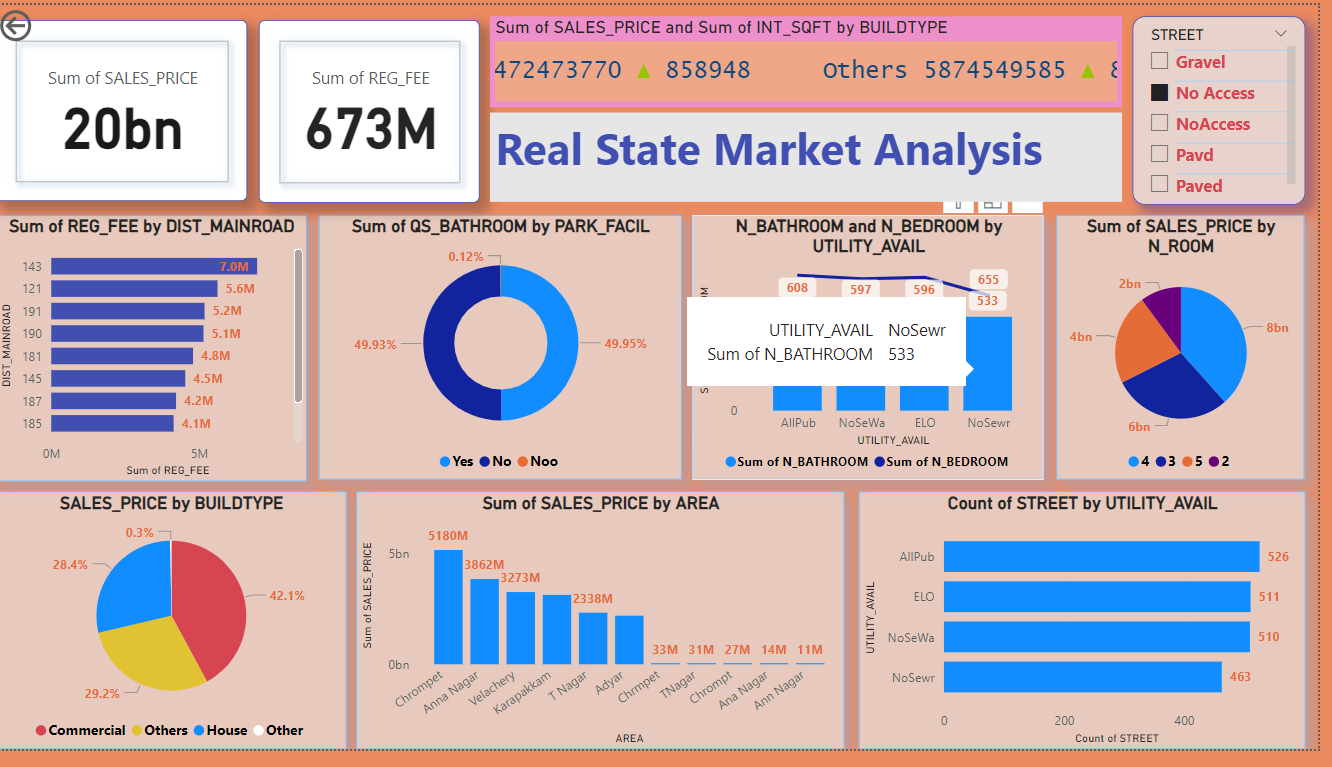

The dashboard page shown, as its layout file describes it:
{"tool":"powerbi","page":{"name":"Page 1","canvas":[1280,720],"ordinal":0},"visuals":[{"type":"pieChart","title":"SALES_PRICE by BUILDTYPE","fields":{"Y":["Sum(Chennai houseing sale.SALES_PRICE)"],"Category":["Chennai houseing sale.BUILDTYPE"]},"box":[0,470.3,340,249.5],"z":0},{"type":"columnChart","fields":{"Category":["Chennai houseing sale.AREA"],"Y":["Sum(Chennai houseing sale.SALES_PRICE)"]},"box":[349.6,470.3,471.6,249.5],"z":1000},{"type":"barChart","fields":{"Y":["CountNonNull(Chennai houseing sale.STREET)"],"Category":["Chennai houseing sale.UTILITY_AVAIL"]},"box":[835,470.3,431.9,249.5],"z":2000},{"type":"slicer","fields":{"Values":["Chennai houseing sale.STREET"]},"box":[1099.6,11,167.3,182.3],"z":3000},{"type":"barChart","fields":{"Category":["Chennai houseing sale.DIST_MAINROAD"],"Y":["Sum(Chennai houseing sale.REG_FEE)"]},"box":[0,202.9,301.6,257.8],"z":4000},{"type":"donutChart","fields":{"Category":["Chennai houseing sale.PARK_FACIL"],"Y":["Sum(Chennai houseing sale.QS_BATHROOM)"]},"box":[312.6,202.9,351,256.4],"z":5000},{"type":"pieChart","fields":{"Category":["Chennai houseing sale.N_ROOM"],"Y":["Sum(Chennai houseing sale.SALES_PRICE)"]},"box":[1026.9,202.9,239.9,256.4],"z":6000},{"type":"lineClusteredColumnComboChart","title":"N_BATHROOM and  N_BEDROOM by UTILITY_AVAIL","fields":{"Y":["Sum(Chennai houseing sale.N_BATHROOM)"],"Y2":["Sum(Chennai houseing sale.N_BEDROOM)"],"Category":["Chennai houseing sale.UTILITY_AVAIL"]},"box":[674.6,202.9,340,256.4],"z":7000},{"type":"cardVisual","fields":{"Data":["Sum(Chennai houseing sale.SALES_PRICE)"]},"box":[0,15.1,244,175.5],"z":8000},{"type":"cardVisual","fields":{"Data":["Sum(Chennai houseing sale.REG_FEE)"]},"box":[255,15.1,213.9,176.9],"z":9000},{"type":"actionButton","box":[0,0,100,40],"z":10000},{"type":"ScrollingTextVisual1448795304508","fields":{"Category":["Chennai houseing sale.BUILDTYPE"],"Measure Absolute":["Sum(Chennai houseing sale.SALES_PRICE)"],"Measure Deviation":["Sum(Chennai houseing sale.INT_SQFT)"]},"box":[478.5,11,611.5,87.7],"z":11000},{"type":"textbox","box":[478.5,104.2,611.5,86.4],"z":12000}]}

Visuals, with their boxes in screenshot pixels (x1, y1, x2, y2), scaled from the page's 1280x720 canvas onto the 1332x767 screenshot:
"SALES_PRICE by BUILDTYPE" pieChart: (0, 501, 354, 766)
columnChart - Chennai houseing sale.AREA x Sum(Chennai houseing sale.SALES_PRICE): (364, 501, 855, 766)
barChart - CountNonNull(Chennai houseing sale.STREET) x Chennai houseing sale.UTILITY_AVAIL: (869, 501, 1318, 766)
slicer - Chennai houseing sale.STREET: (1144, 12, 1318, 206)
barChart - Chennai houseing sale.DIST_MAINROAD x Sum(Chennai houseing sale.REG_FEE): (0, 216, 314, 491)
donutChart - Chennai houseing sale.PARK_FACIL x Sum(Chennai houseing sale.QS_BATHROOM): (325, 216, 691, 489)
pieChart - Chennai houseing sale.N_ROOM x Sum(Chennai houseing sale.SALES_PRICE): (1069, 216, 1318, 489)
"N_BATHROOM and  N_BEDROOM by UTILITY_AVAIL" lineClusteredColumnComboChart: (702, 216, 1056, 489)
cardVisual - Sum(Chennai houseing sale.SALES_PRICE): (0, 16, 254, 203)
cardVisual - Sum(Chennai houseing sale.REG_FEE): (265, 16, 488, 205)
actionButton: (0, 0, 104, 43)
ScrollingTextVisual1448795304508 - Chennai houseing sale.BUILDTYPE x Sum(Chennai houseing sale.SALES_PRICE): (498, 12, 1134, 105)
textbox: (498, 111, 1134, 203)
